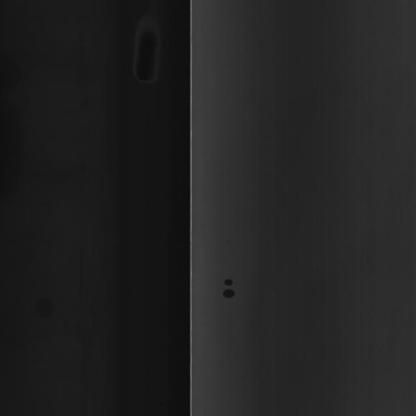oil_spot: (212, 274, 244, 312)
